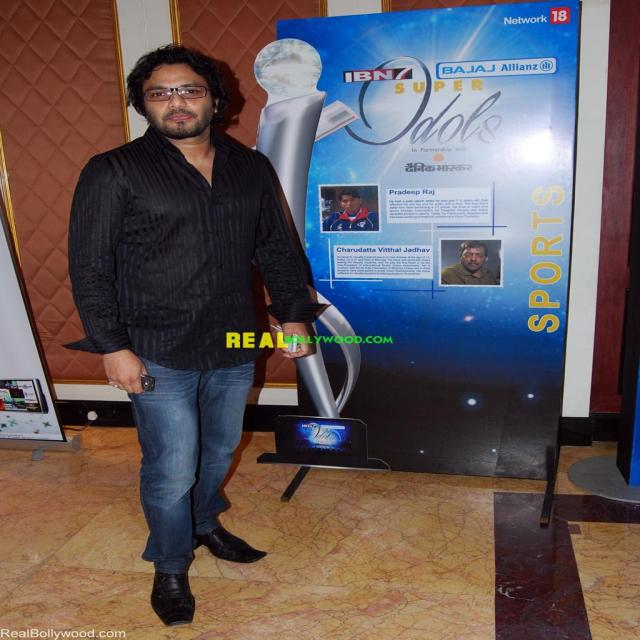Face: (140, 63, 228, 137)
